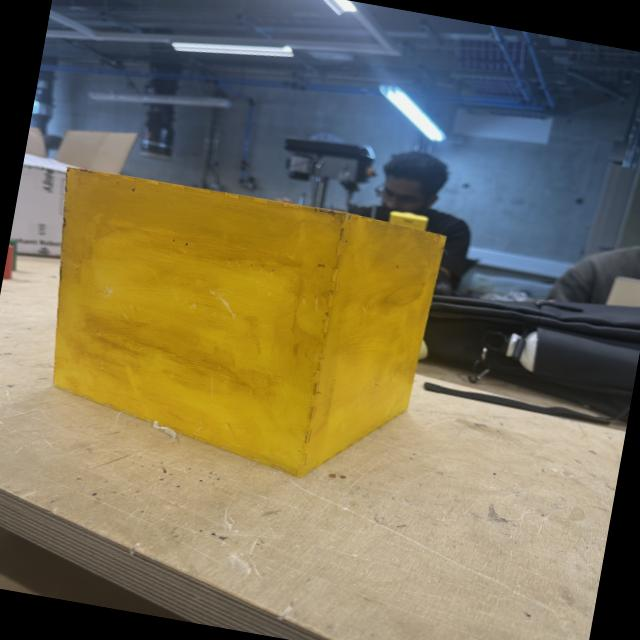yellow_bin: (19, 164, 447, 497)
